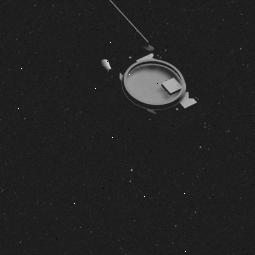proba_3_csc: (93, 0, 200, 124)
